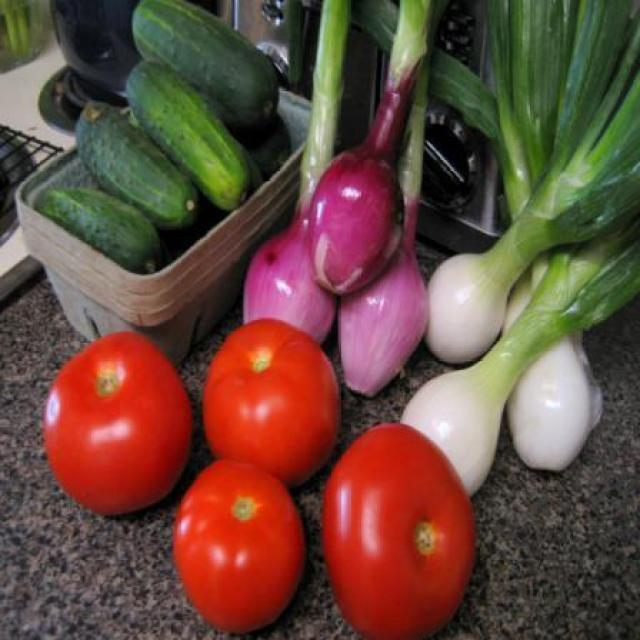Zucchini: (127, 0, 280, 131), (75, 96, 202, 241), (36, 181, 166, 276)
